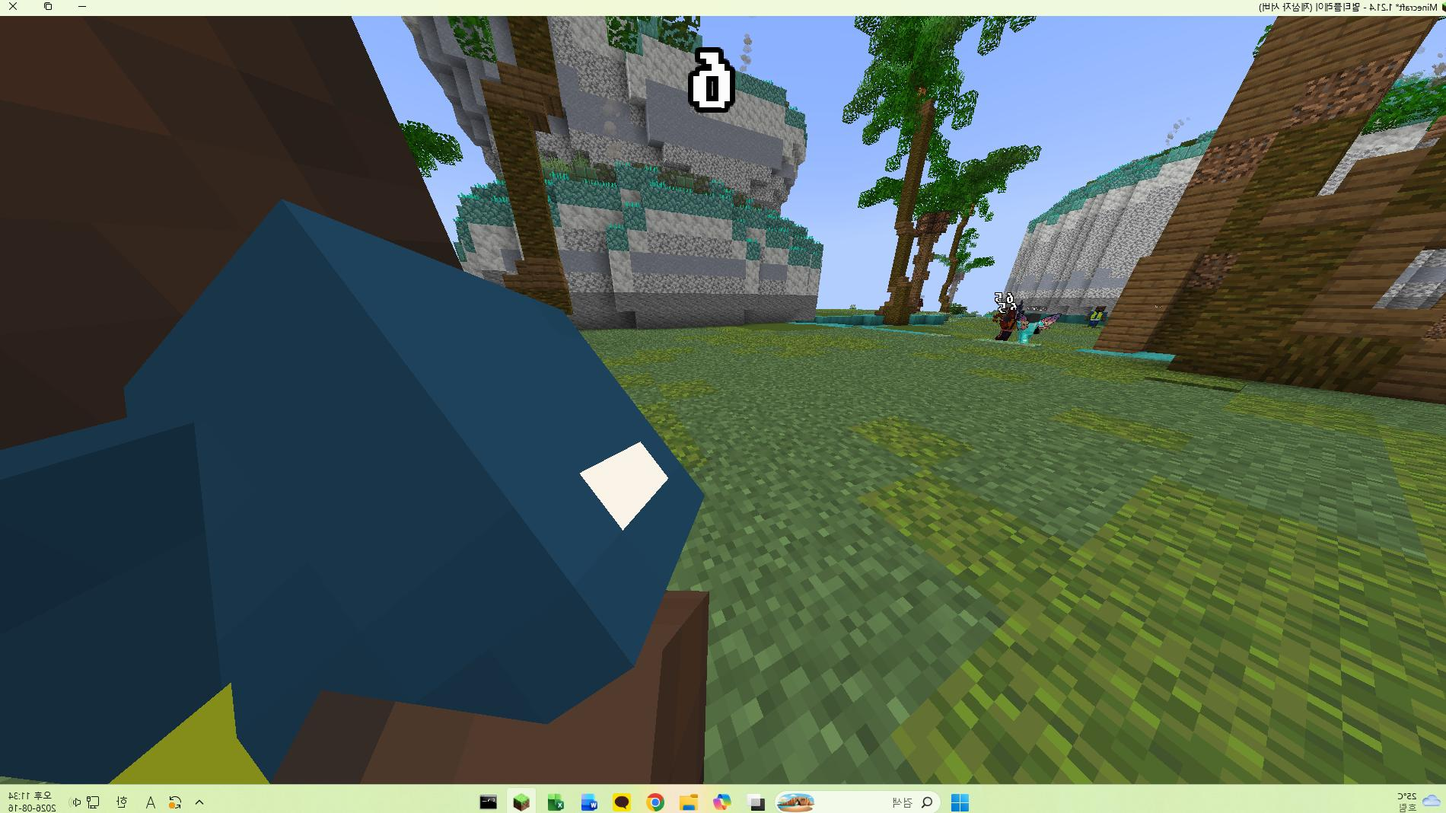Guardian: (0, 17, 710, 782)
